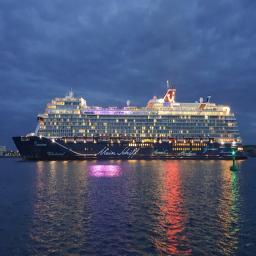cruises: (13, 79, 249, 163)
